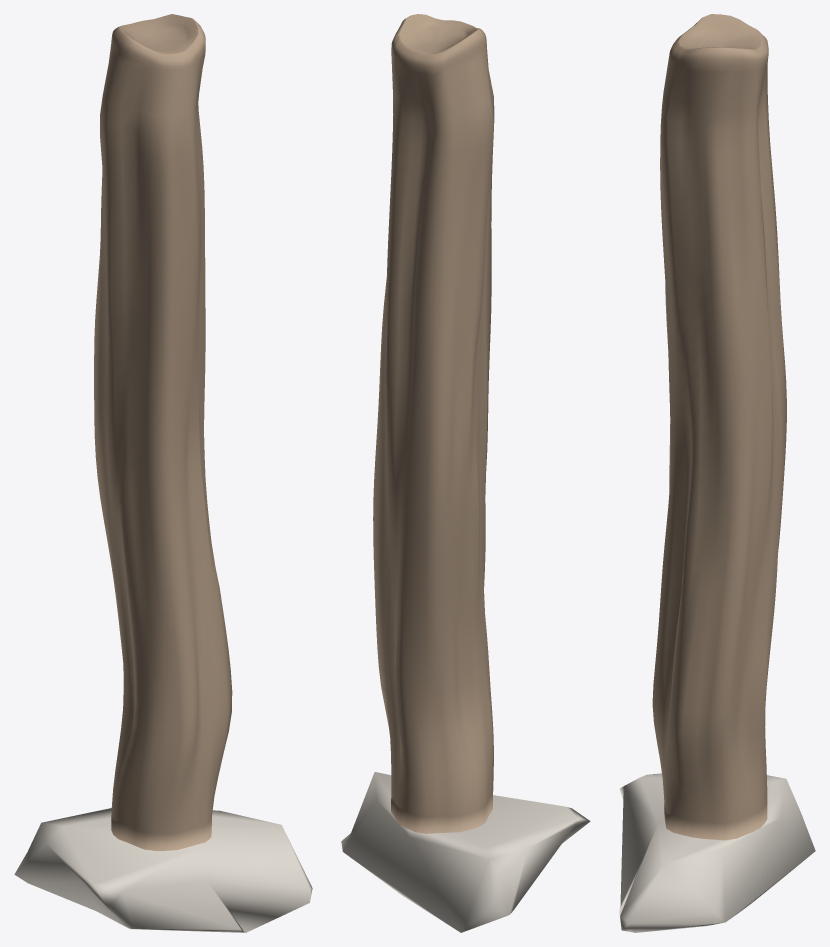
The model's file is bagana-f3-3x11-v2.glb.
3 renders of one model, left to right at view 1: azimuth 30°, elevation 25°; view 2: azimuth 150°, elevation 25°; view 3: azimuth 270°, elevation 25°, orthographic.
Visible parts, largest first — view 1: bagana_wood, bagana_stone; view 2: bagana_wood, bagana_stone; view 3: bagana_wood, bagana_stone.
Part boxes in pixels (x1=…): bagana_wood: x1=94, y1=14, x2=232, y2=850; bagana_stone: x1=14, y1=808, x2=312, y2=932; bagana_wood: x1=373, y1=14, x2=494, y2=833; bagana_stone: x1=341, y1=772, x2=590, y2=932; bagana_wood: x1=652, y1=14, x2=786, y2=840; bagana_stone: x1=619, y1=773, x2=815, y2=932.
Size of the model in its own units: 0.7206 by 2.81 by 0.579.
